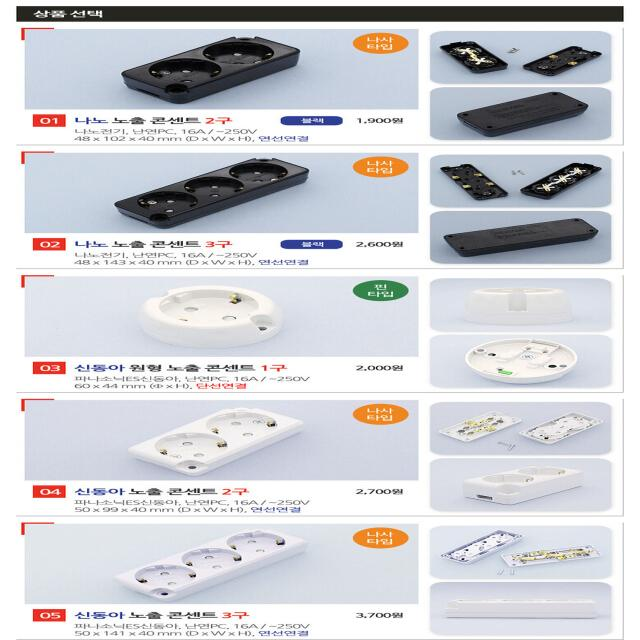typeb: (74, 150, 330, 234), (74, 31, 326, 106), (106, 407, 348, 484), (103, 527, 328, 603), (111, 280, 300, 348)
